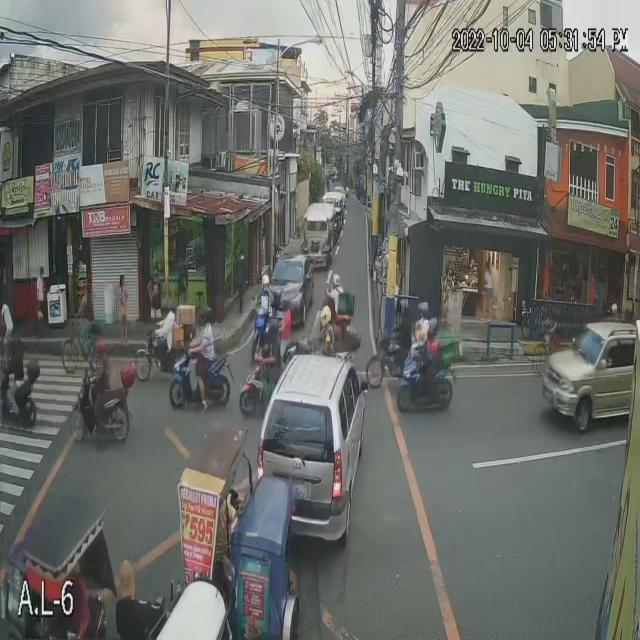full: (319, 304, 332, 328), (198, 304, 210, 327)
